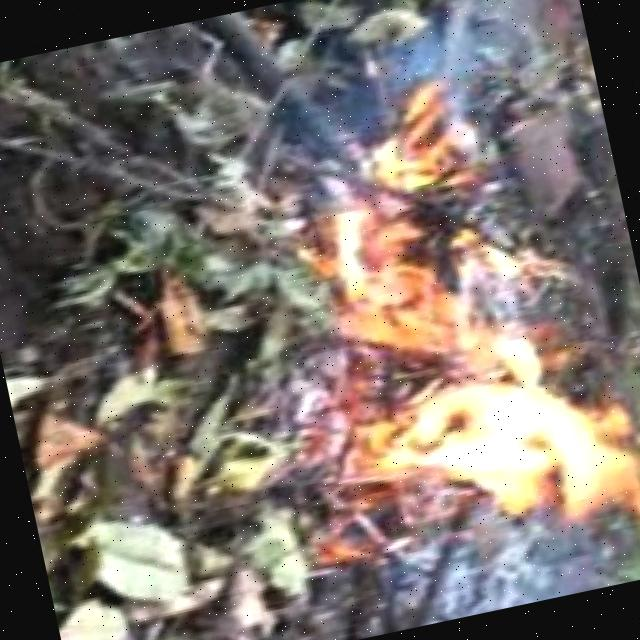fire: (317, 246, 640, 571), (288, 86, 540, 418)
